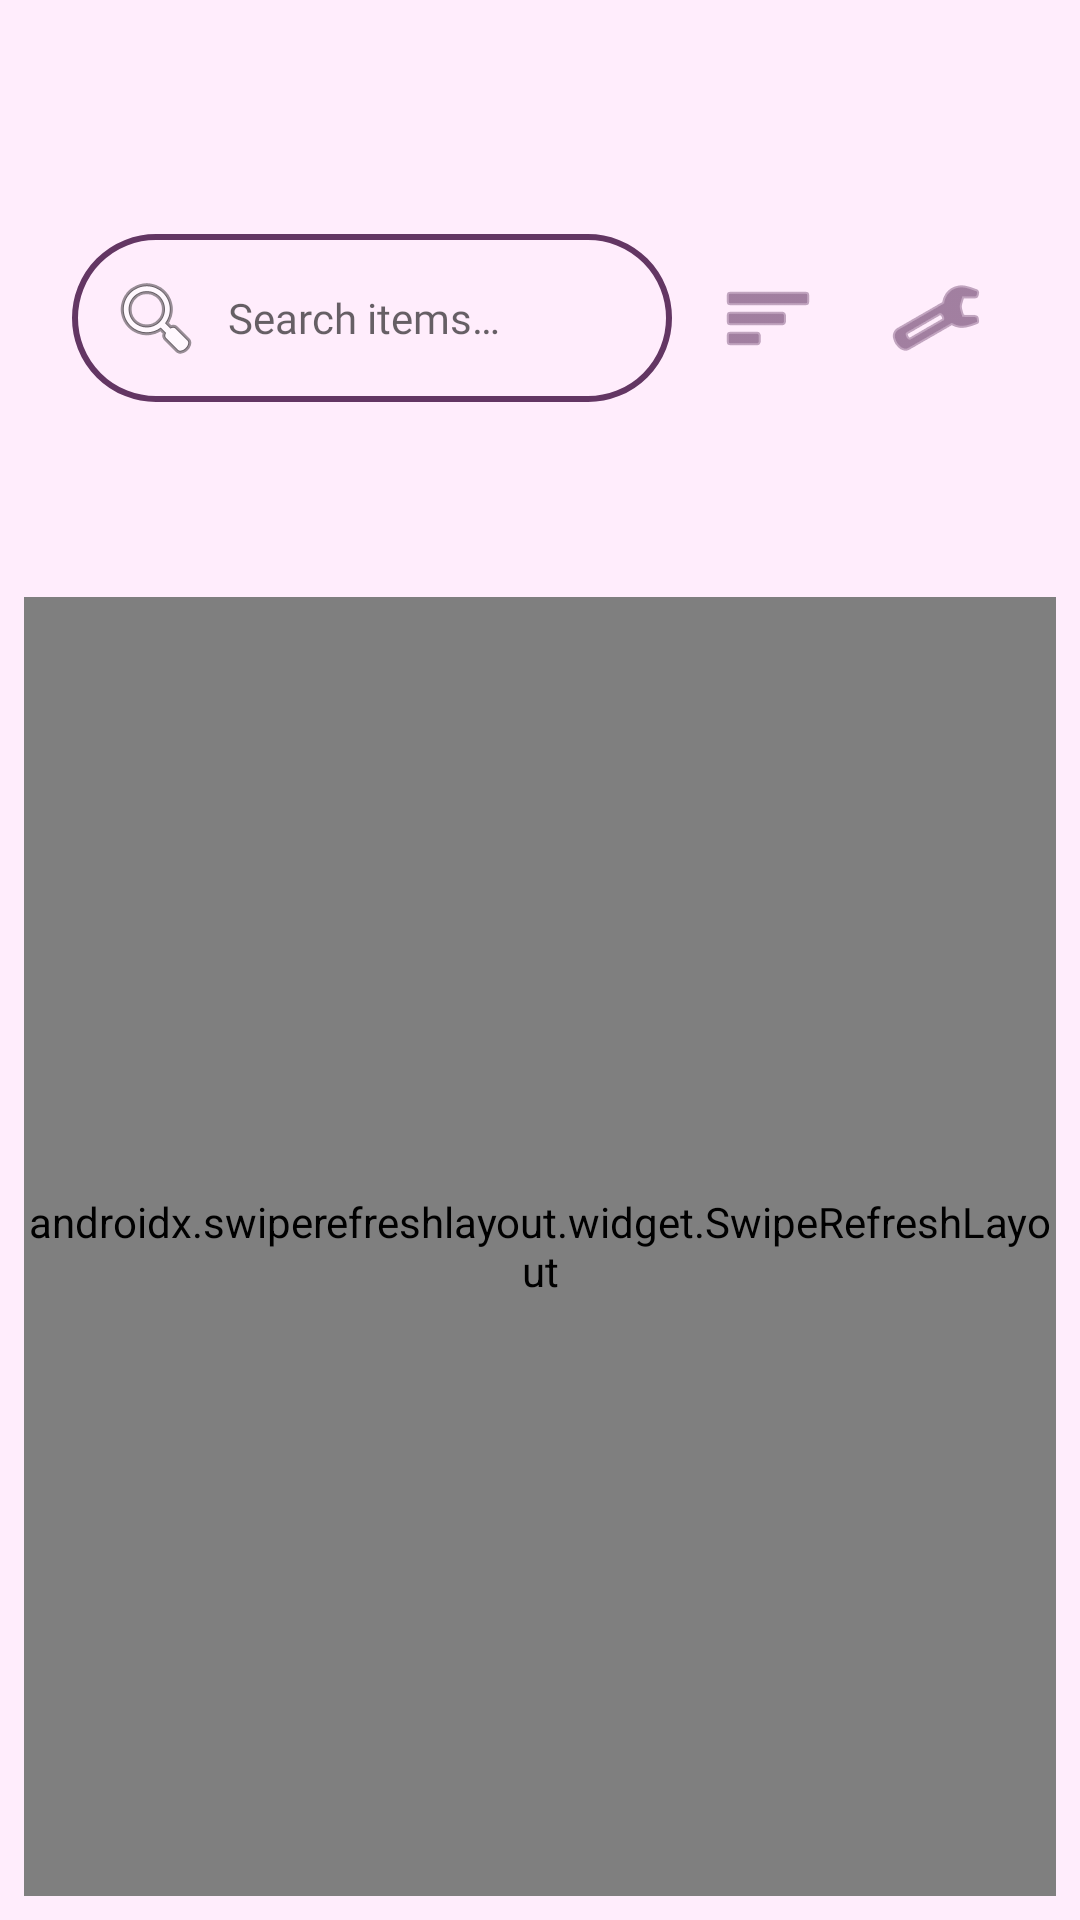

Named icons in this screenshot (1080x1920) and their bounding boxes, [x1=x1, y1=y1, x2=x2, y2=y2]:
Filter: [x1=727, y1=292, x2=809, y2=345]
